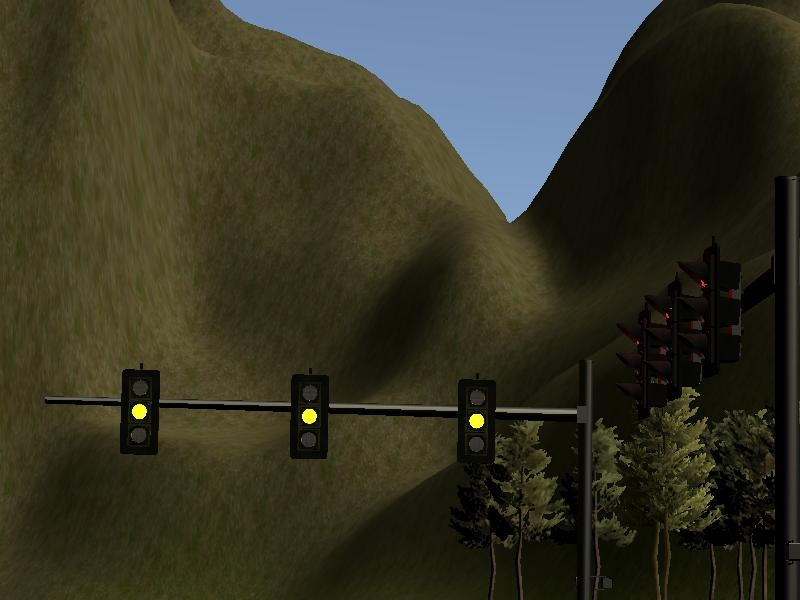yellow: (285, 364, 334, 462), (455, 375, 499, 472), (119, 364, 163, 455)
